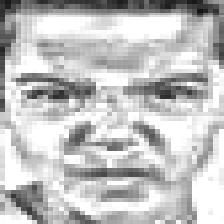angry: (5, 15, 224, 224)
